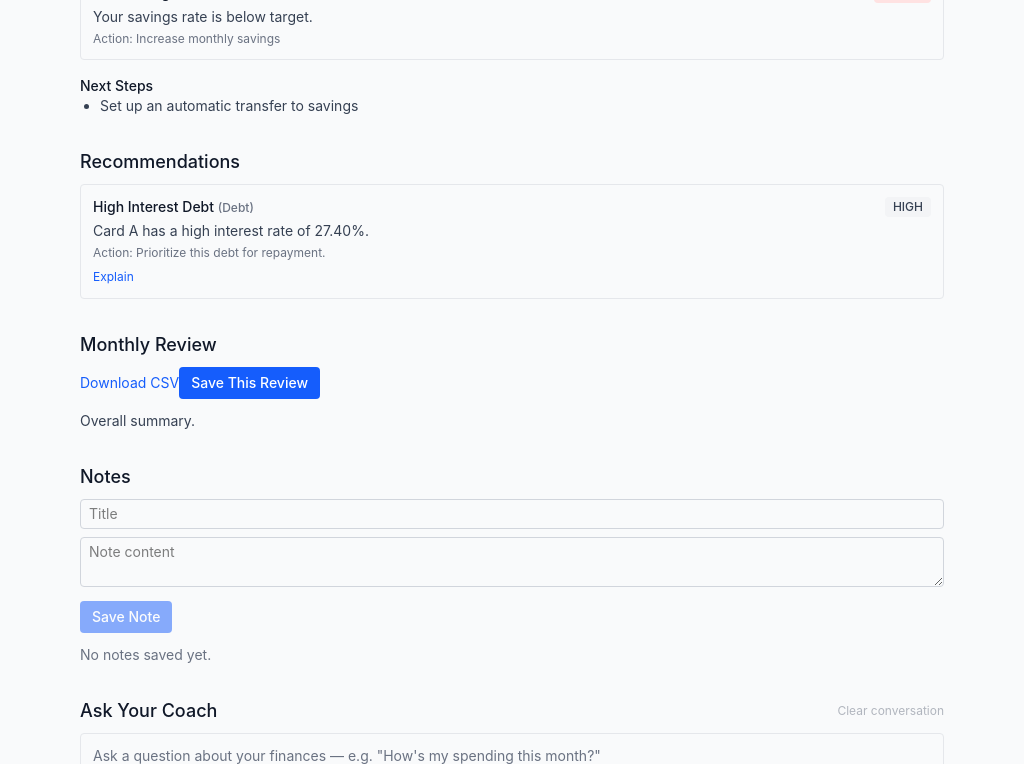
Test case: CoachPage › saves a monthly review and shows the saved confirmation
The image size is (1024, 764).
(page scrolled)
Click the button "Save This Review" at (250, 383), box x1=179 y1=367 x2=320 y2=399
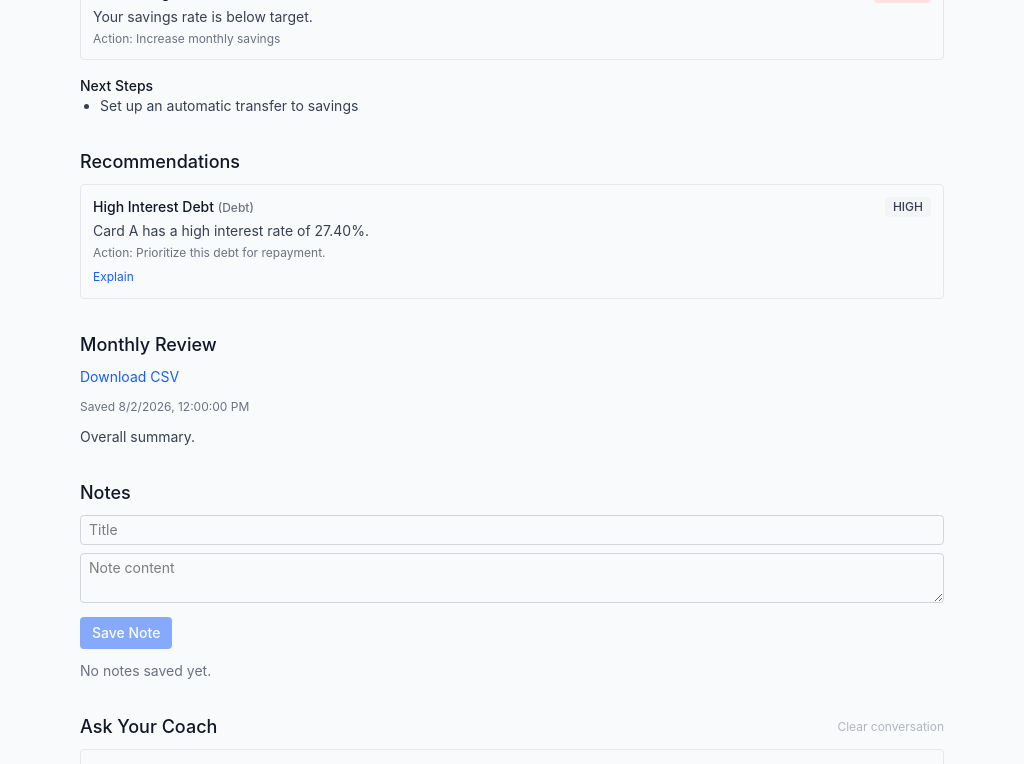
Check: the text "Saved 8/2/2026, 12:00:00 PM" is shown, box x1=80 y1=399 x2=249 y2=414
Check: the button "Save This Review" is gone
